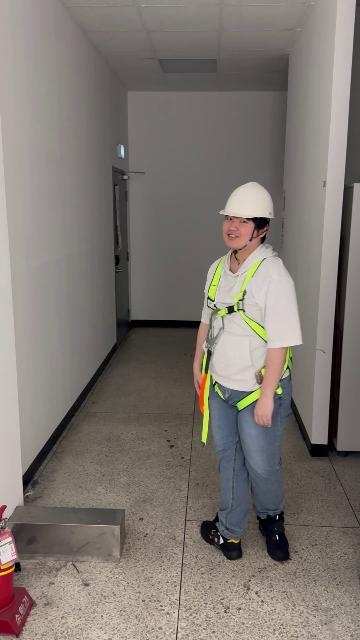helmet_worn: (197, 255, 288, 438)
shoe_worn: (201, 514, 242, 560), (257, 512, 289, 562)
vest_worn: (218, 180, 277, 221)
